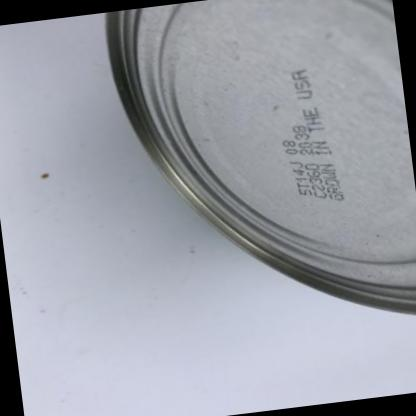Metal: (105, 0, 416, 313)
